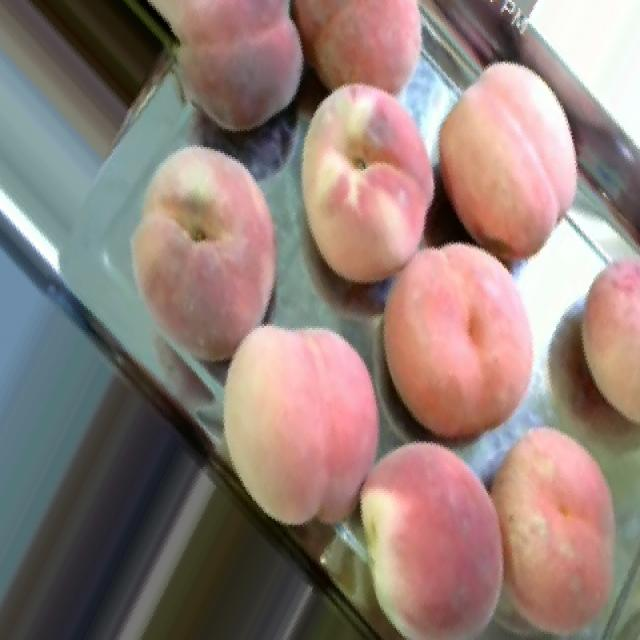Fruit: (183, 296, 413, 557), (103, 121, 301, 392), (358, 217, 562, 467), (322, 413, 534, 640), (468, 403, 640, 640), (436, 42, 604, 280), (276, 66, 441, 304), (1, 0, 184, 179), (114, 0, 314, 153), (291, 0, 445, 119), (557, 235, 640, 451)
